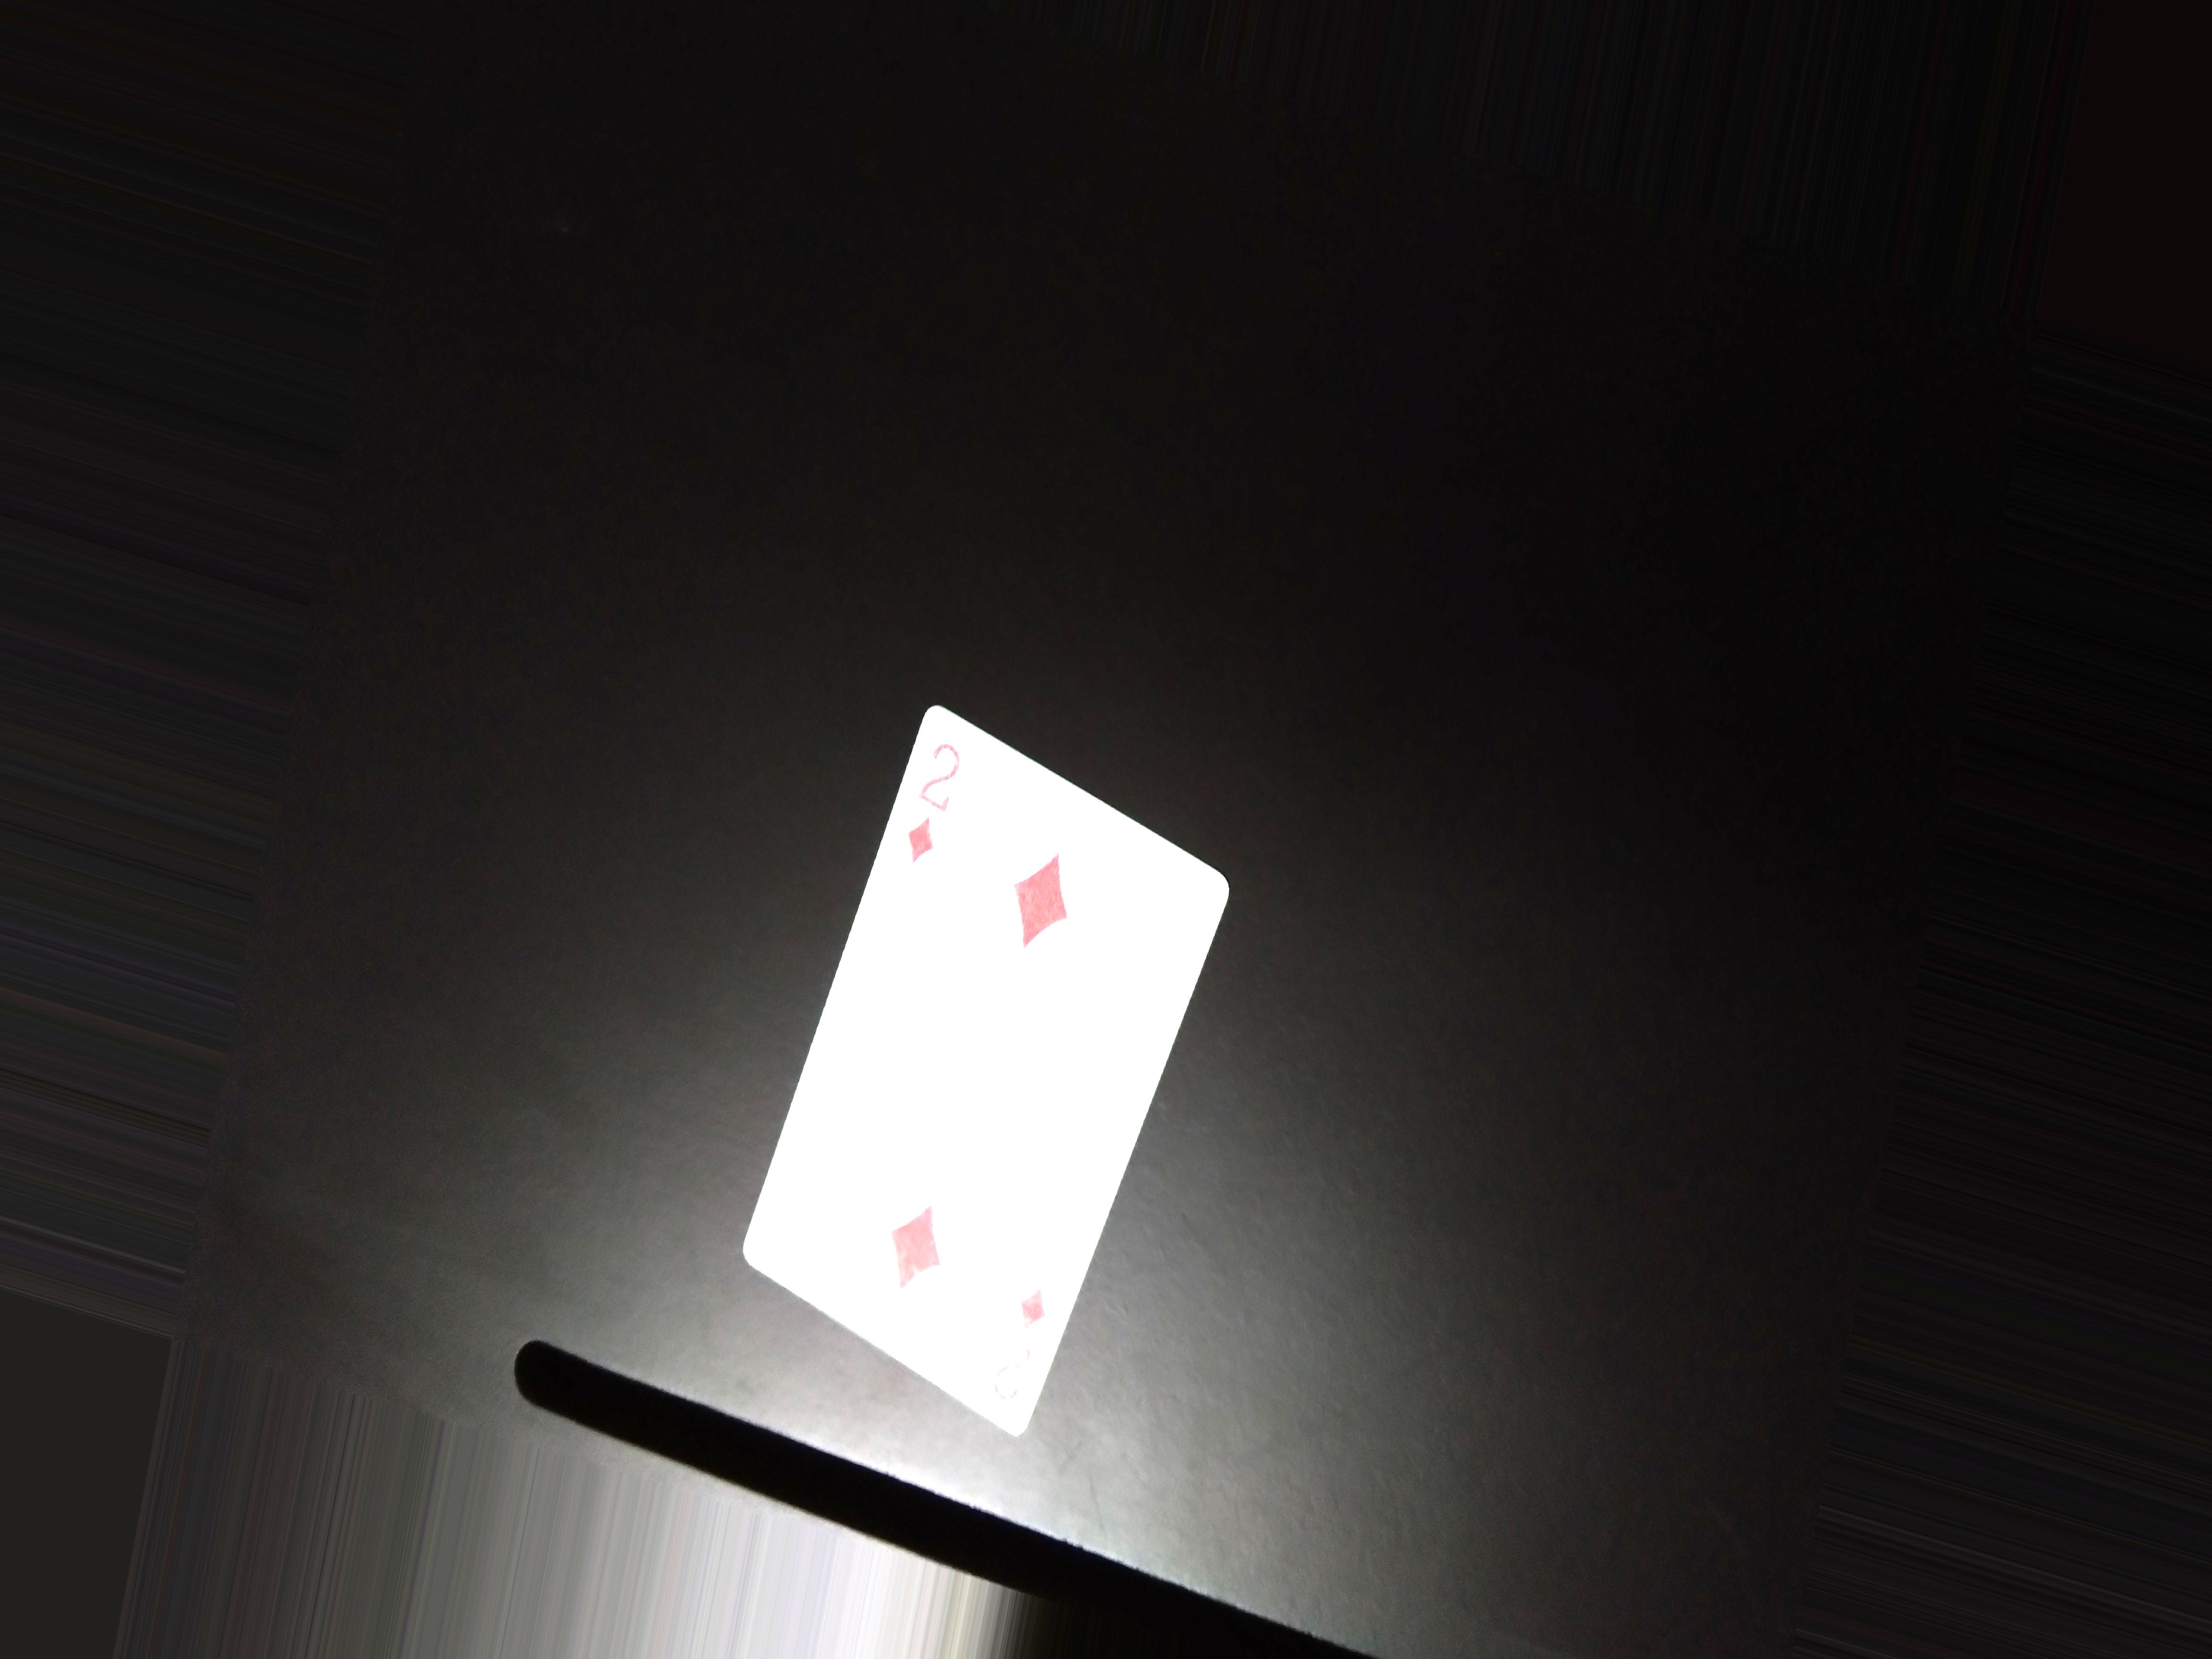2D: (897, 728, 967, 871)
